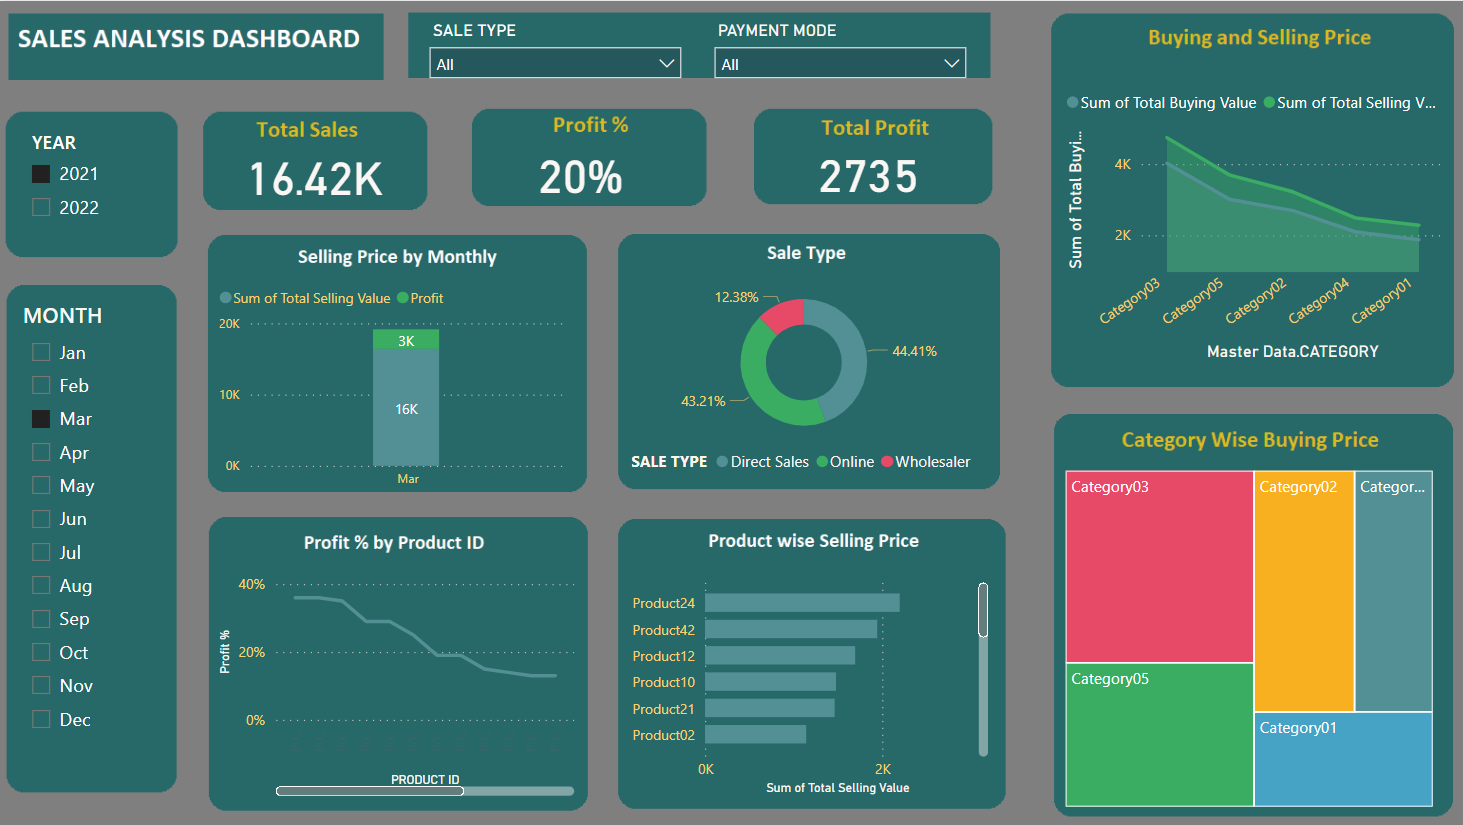

This screenshot's page, from the dashboard's own definition file:
{"tool":"powerbi","page":{"name":"Page 1","canvas":[1280,720],"ordinal":0},"visuals":[{"type":"slicer","fields":{"Values":["Input Data.SALE TYPE"]},"box":[364.1,12.4,239.2,54.6],"z":0},{"type":"slicer","fields":{"Values":["Input Data.PAYMENT MODE"]},"box":[612.4,12.4,239.2,54.6],"z":1000},{"type":"card","fields":{"Values":["Input Data.Profit %"]},"box":[408.4,112.1,194.2,72.9],"z":2000},{"type":"card","fields":{"Values":["Sum(Input Data.Total Selling Value)"]},"box":[176.9,120.3,195.1,62],"z":3000},{"type":"clusteredBarChart","fields":{"Y":["Sum(Input Data.Total Selling Value)"],"Category":["Input Data.Master Data.PRODUCT"]},"box":[540.4,493.2,325.2,201.9],"z":4000},{"type":"donutChart","fields":{"Y":["Sum(Input Data.Total Selling Value)"],"Category":["Input Data.SALE TYPE"]},"box":[540.6,238.5,317.7,181.2],"z":5000},{"type":"treemap","fields":{"Group":["Input Data.Master Data.CATEGORY"],"Values":["Sum(Input Data.Total Buying Value)"]},"box":[922.9,403.1,329.2,302.1],"z":6000},{"type":"card","fields":{"Values":["Input Data.Profit"]},"box":[671.9,114.9,167.7,67.5],"z":7000},{"type":"columnChart","fields":{"Category":["Input Data.Month Name"],"Y":["Sum(Input Data.Total Selling Value)","Input Data.Profit"]},"box":[186.5,238.5,311.5,194.8],"z":8000},{"type":"slicer","fields":{"Values":["Input Data.Year"]},"box":[15.6,107.3,131.2,83.3],"z":9000},{"type":"slicer","title":"MONTH","fields":{"Values":["Input Data.Month Name"]},"box":[15.7,259.9,123.3,417.9],"z":10000},{"type":"lineChart","fields":{"Y":["Input Data.Profit %"],"Category":["Input Data.PRODUCT ID"]},"box":[186.5,492.7,318.8,203.1],"z":11000},{"type":"areaChart","fields":{"Y":["Sum(Input Data.Total Buying Value)","Sum(Input Data.Total Selling Value)"],"Category":["Input Data.Master Data.CATEGORY"]},"box":[922.9,67.7,338.5,250],"z":12000}]}

Visuals, with their boxes in screenshot pixels (x1, y1, x2, y2), scaled from the page's 1280x720 canvas onto the 1463x825 screenshot:
slicer - Input Data.SALE TYPE: bbox=(416, 14, 690, 77)
slicer - Input Data.PAYMENT MODE: bbox=(700, 14, 973, 77)
card - Input Data.Profit %: bbox=(467, 128, 689, 212)
card - Sum(Input Data.Total Selling Value): bbox=(202, 138, 425, 209)
clusteredBarChart - Sum(Input Data.Total Selling Value) x Input Data.Master Data.PRODUCT: bbox=(618, 565, 989, 796)
donutChart - Sum(Input Data.Total Selling Value) x Input Data.SALE TYPE: bbox=(618, 273, 981, 481)
treemap - Input Data.Master Data.CATEGORY x Sum(Input Data.Total Buying Value): bbox=(1055, 462, 1431, 808)
card - Input Data.Profit: bbox=(768, 132, 960, 209)
columnChart - Input Data.Month Name x Sum(Input Data.Total Selling Value): bbox=(213, 273, 569, 496)
slicer - Input Data.Year: bbox=(18, 123, 168, 218)
"MONTH" slicer: bbox=(18, 298, 159, 777)
lineChart - Input Data.Profit % x Input Data.PRODUCT ID: bbox=(213, 565, 578, 797)
areaChart - Sum(Input Data.Total Buying Value) x Sum(Input Data.Total Selling Value): bbox=(1055, 78, 1442, 364)
